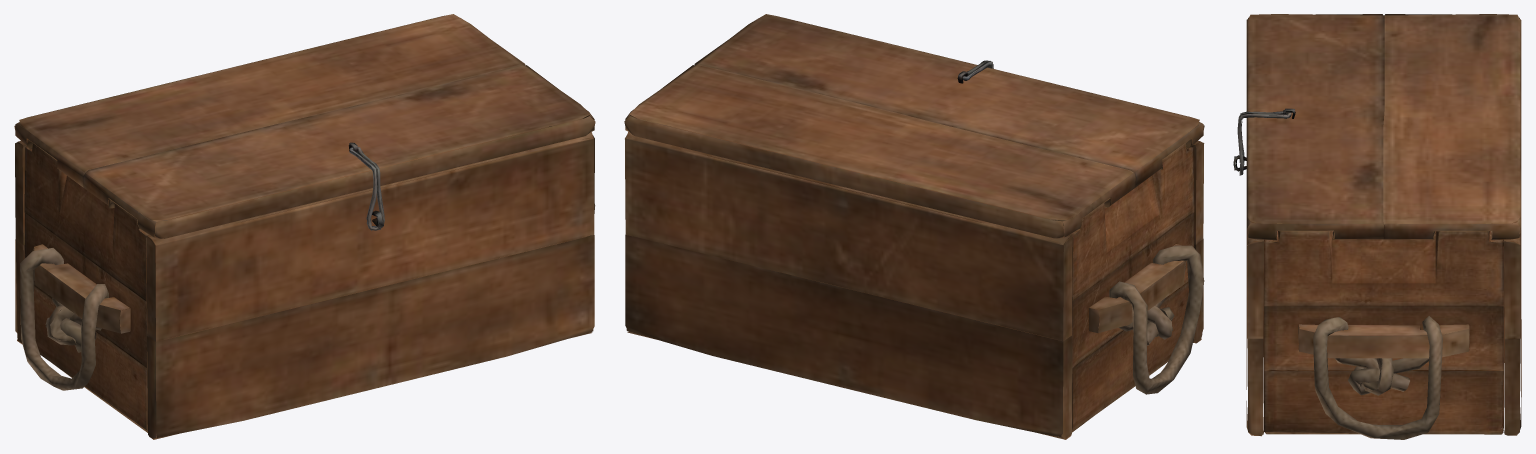
Rendered from wooden_crate_01.glb.
The picture shows the model from 3 angles, left to right: view 1: azimuth 30°, elevation 25°; view 2: azimuth 150°, elevation 25°; view 3: azimuth 270°, elevation 25°; orthographic projection. The views are drawn at different scales.
Visible parts, largest first — view 1: wooden_crate_01_lid; view 2: wooden_crate_01_lid; view 3: wooden_crate_01_lid.
Boxes of the visible parts, bbox=[...] form: wooden_crate_01_lid: bbox=[14, 14, 595, 439]; wooden_crate_01_lid: bbox=[624, 14, 1204, 439]; wooden_crate_01_lid: bbox=[1233, 14, 1521, 439].
Bounding box in the file's own units: 0.821 × 0.3482 × 0.4076.
1 material, 1 textured.
